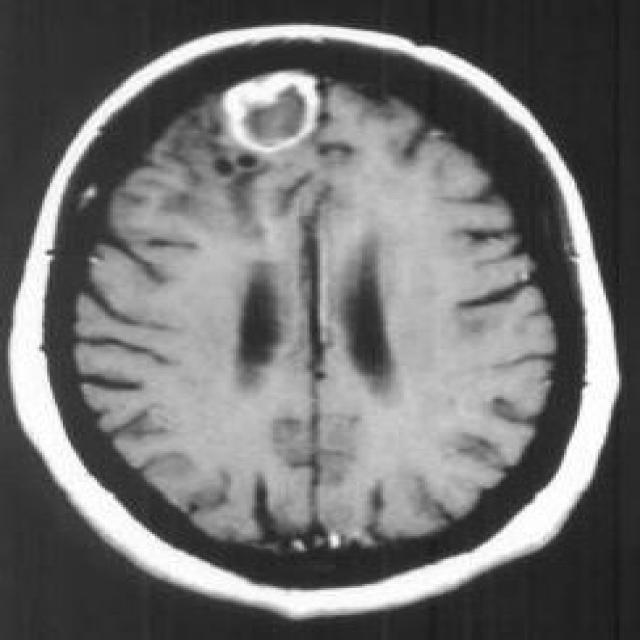Tumor-Cell: (211, 71, 324, 141)
